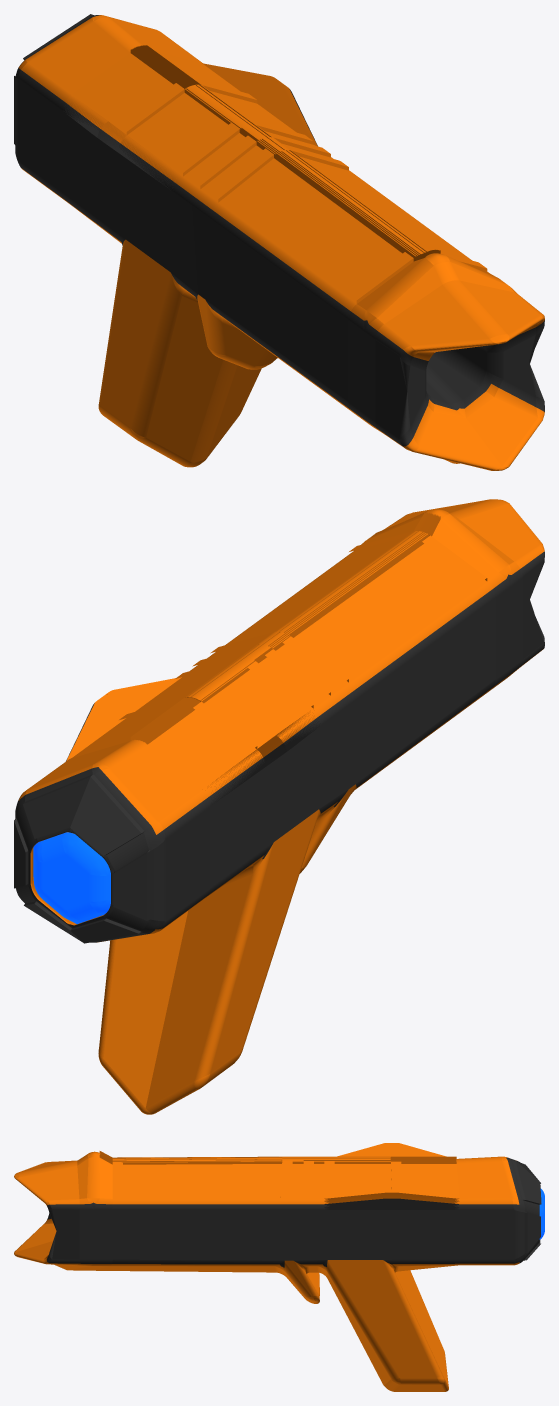
The model's file is EnergyPistolMesh.fbx.
The picture shows the model from 3 angles, top to bottom: view 1: azimuth 30°, elevation 25°; view 2: azimuth 150°, elevation 25°; view 3: azimuth 270°, elevation 25°; orthographic projection. The views are drawn at different scales.
Parts seen in each view (by area): view 1: EnergyGun; view 2: EnergyGun; view 3: EnergyGun.
Boxes of the visible parts, x1=… form: EnergyGun: x1=14, y1=14, x2=544, y2=470; EnergyGun: x1=14, y1=499, x2=544, y2=1114; EnergyGun: x1=14, y1=1143, x2=544, y2=1391.
Size of the model in its own units: 202 by 401 by 806.
